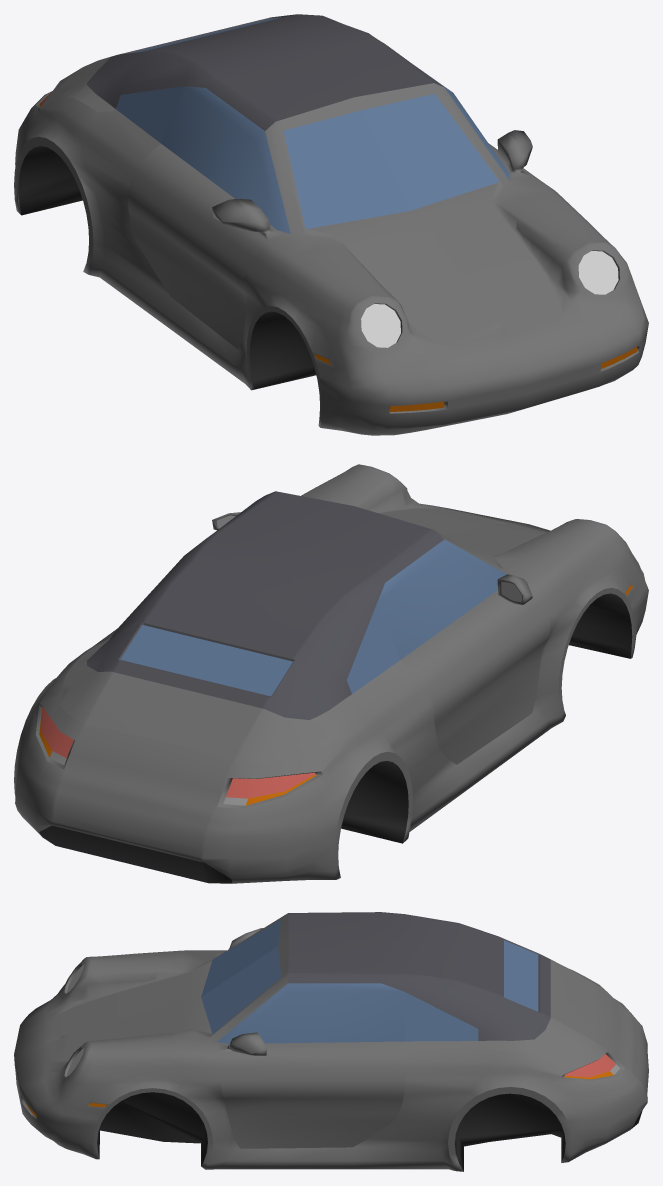
Rendered from Sportscar_AI.fbx.
3 views of the same model, one above another, from view 1: azimuth 30°, elevation 25°; view 2: azimuth 150°, elevation 25°; view 3: azimuth 270°, elevation 25° (orthographic). The views are drawn at different scales.
Visible parts, largest first — view 1: Body; view 2: Body; view 3: Body.
Boxes of the visible parts, x1,y1,x2,y2 form: Body: [14, 14, 648, 435]; Body: [14, 464, 648, 883]; Body: [14, 912, 648, 1171].
Size of the model in its own units: 2.04 by 1.32 by 4.46.
